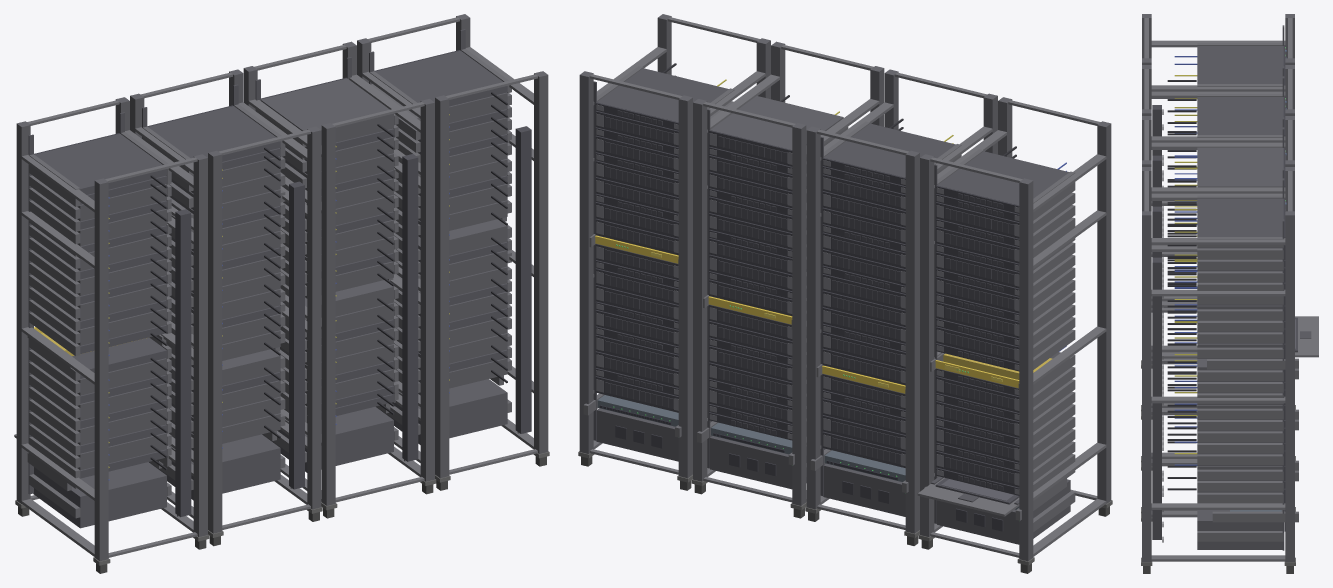
The model's file is dciem-rack.glb.
3 views of the same model, side by side, from view 1: azimuth 30°, elevation 25°; view 2: azimuth 150°, elevation 25°; view 3: azimuth 270°, elevation 25° (orthographic). The views are drawn at different scales.
Visible parts, largest first — view 1: n570, n2, n1624, n1090, n3, n571, n1625, n1091, n28, n1116, n1650, n596 (+85 smaller); view 2: n0, n1088, n1622, n568, n1623, n569, n1089, n1, n2, n550, n1600, n1070 (+34 smaller); view 3: n1600, n1623, n1625, n2138, n550, n1070, n1650, n1670, n1718, n1758, n1820, n1860 (+66 smaller).
Boxes of the visible parts, x1,y1,x2,y2 form: n570: (208, 150, 222, 533); n2: (94, 178, 108, 561); n1624: (435, 95, 449, 478); n1090: (321, 123, 335, 505); n3: (193, 154, 207, 536); n571: (307, 126, 321, 509); n1625: (534, 71, 548, 453); n1091: (420, 99, 434, 481); n28: (175, 209, 191, 517); n1116: (402, 154, 418, 461); n1650: (515, 126, 531, 433); n596: (289, 181, 304, 489); n0: (1019, 178, 1033, 561); n1088: (792, 123, 806, 505); n1622: (678, 95, 692, 478); n568: (905, 150, 919, 533); n1623: (579, 71, 593, 453); n569: (806, 126, 820, 509); n1089: (693, 99, 707, 481); n1: (920, 154, 934, 536); n2: (1097, 121, 1111, 503); n550: (937, 151, 1069, 205); n1600: (710, 96, 843, 149); n1070: (824, 123, 955, 177); n1600: (1197, 147, 1283, 187); n1623: (1285, 211, 1294, 562); n1625: (1142, 211, 1151, 562); n2138: (1197, 198, 1283, 236); n550: (1197, 46, 1283, 83); n1070: (1197, 97, 1283, 134); n1650: (1152, 257, 1161, 539); n1670: (1197, 510, 1282, 549); n1718: (1197, 492, 1283, 503); n1758: (1197, 469, 1283, 480); n1820: (1197, 431, 1283, 442); n1860: (1197, 408, 1283, 419).
Bounding box in the file's own units: 2.5 × 2.07 × 0.93.
